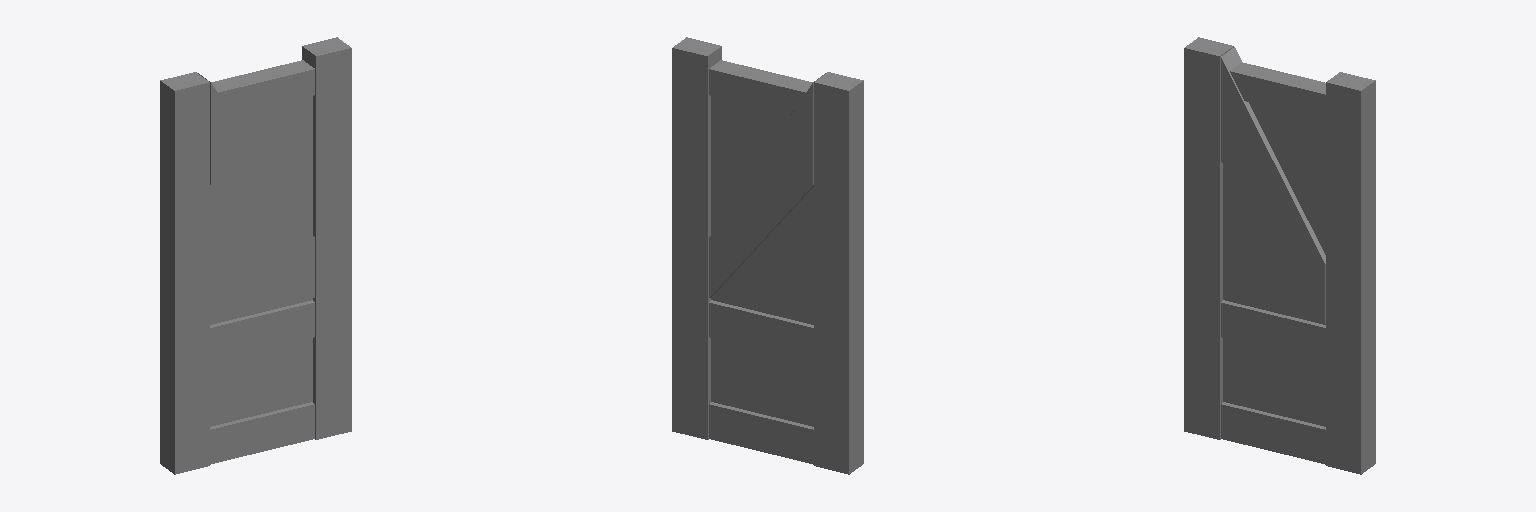
Rendered from PuertaIzq.obj.
The picture shows the model from 3 angles: view 1: azimuth 30°, elevation 25°; view 2: azimuth 150°, elevation 25°; view 3: azimuth 330°, elevation 25°; orthographic projection.
Visible parts, largest first — view 1: Puerta_izquierda; view 2: Puerta_izquierda; view 3: Puerta_izquierda.
Part boxes in pixels (x1,y1,x2,y2): Puerta_izquierda: (160,37,351,474); Puerta_izquierda: (672,37,863,474); Puerta_izquierda: (1184,37,1375,474).
Size of the model in its own units: 120 by 249 by 16.88.